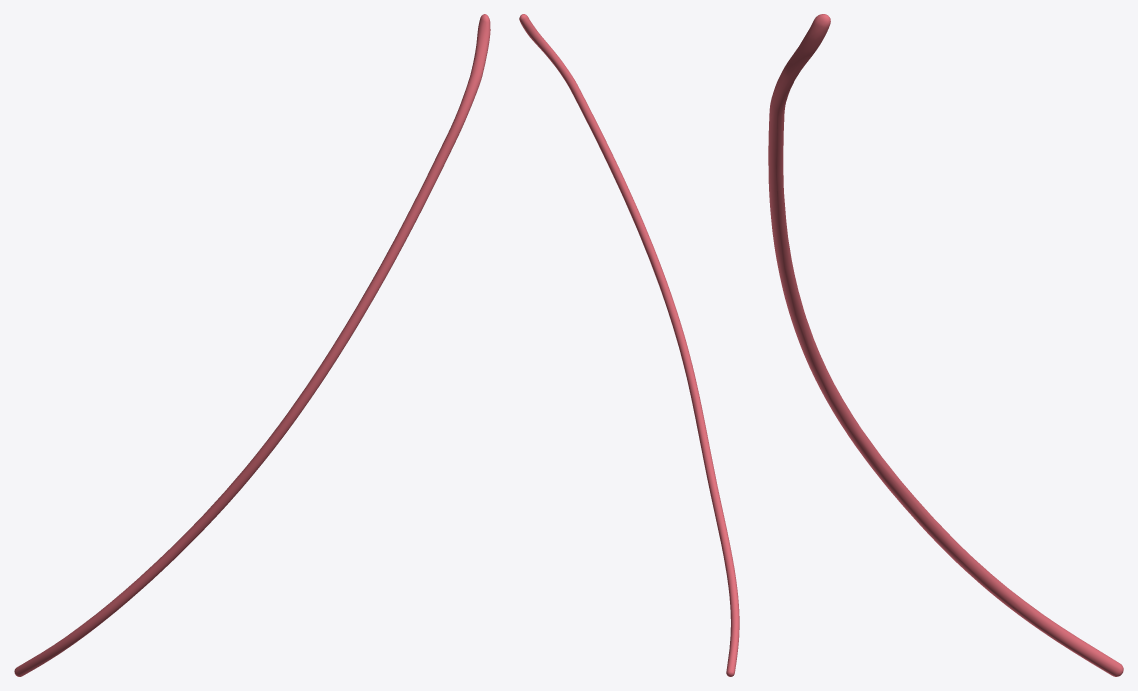
Rendered from fma4772_fj1996.glb.
The picture shows the model from 3 angles, left to right: view 1: azimuth 30°, elevation 25°; view 2: azimuth 150°, elevation 25°; view 3: azimuth 270°, elevation 25°; orthographic projection. The views are drawn at different scales.
Visible parts, largest first — view 1: FMA4772_FJ1996; view 2: FMA4772_FJ1996; view 3: FMA4772_FJ1996.
Boxes of the visible parts, box(x1,y1,x2,y2) form: FMA4772_FJ1996: box(14, 14, 490, 676); FMA4772_FJ1996: box(519, 14, 739, 676); FMA4772_FJ1996: box(768, 14, 1123, 676).
Bounding box in the file's own units: 0.0989 × 0.1668 × 0.0592.
